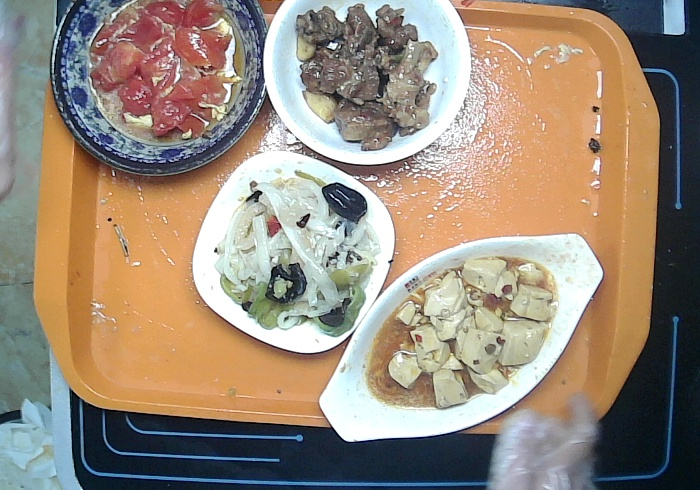ZNLD-Qing_Hua_Wan: (50, 1, 269, 177)
ZNLD-Si_Fang_Wan: (191, 149, 396, 359)
ZNLD-Tang_Wan: (268, 1, 479, 165)
ZNLD-Yu_Pan: (326, 228, 605, 452)
